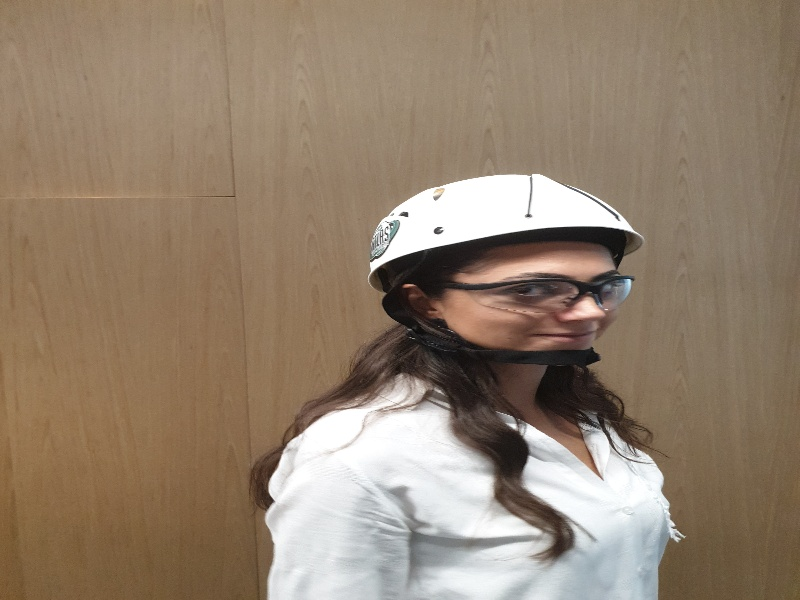Baret: (367, 172, 644, 273)
Gozluk: (437, 275, 635, 313)
